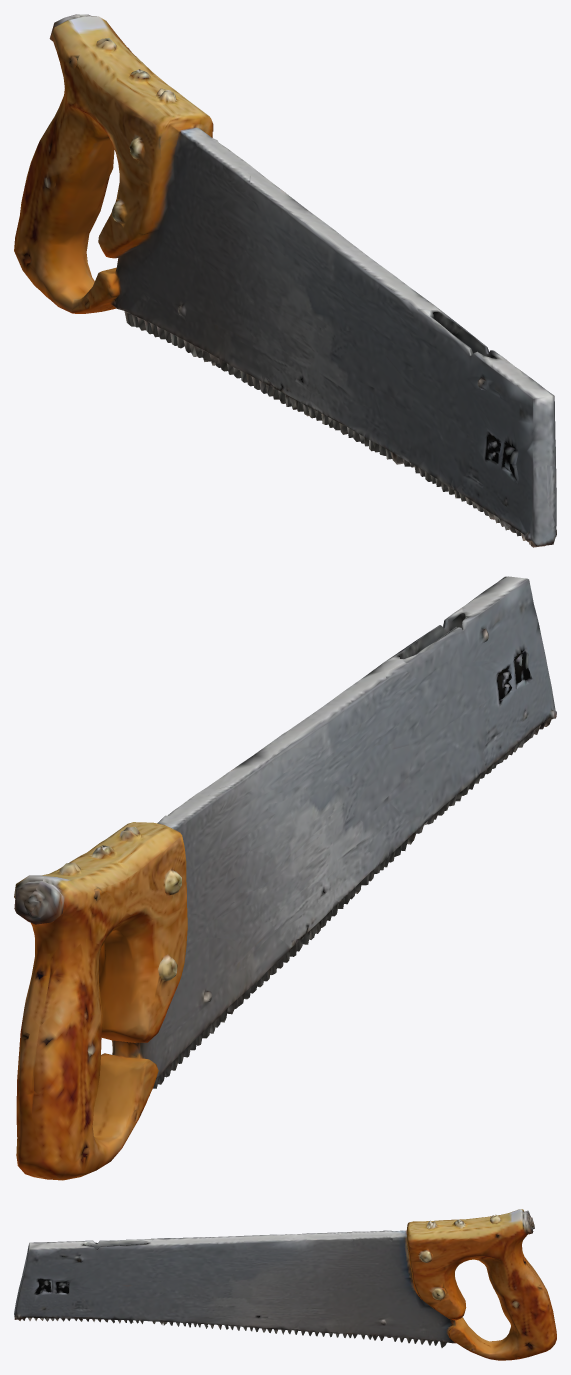
File: hand_saw.257a198479.glb
3 renders of one model, top to bottom at view 1: azimuth 30°, elevation 25°; view 2: azimuth 150°, elevation 25°; view 3: azimuth 270°, elevation 25°, orthographic. The views are drawn at different scales.
Visible parts, largest first — view 1: hand_saw; view 2: hand_saw; view 3: hand_saw.
Part boxes in pixels (x1,y1,x2,y2): hand_saw: (14, 14, 556, 547); hand_saw: (14, 576, 556, 1180); hand_saw: (14, 1209, 556, 1360).
Size of the model in its own units: 0.0597 by 0.1876 by 0.62.
Materials: 1 (1 with a texture image).
